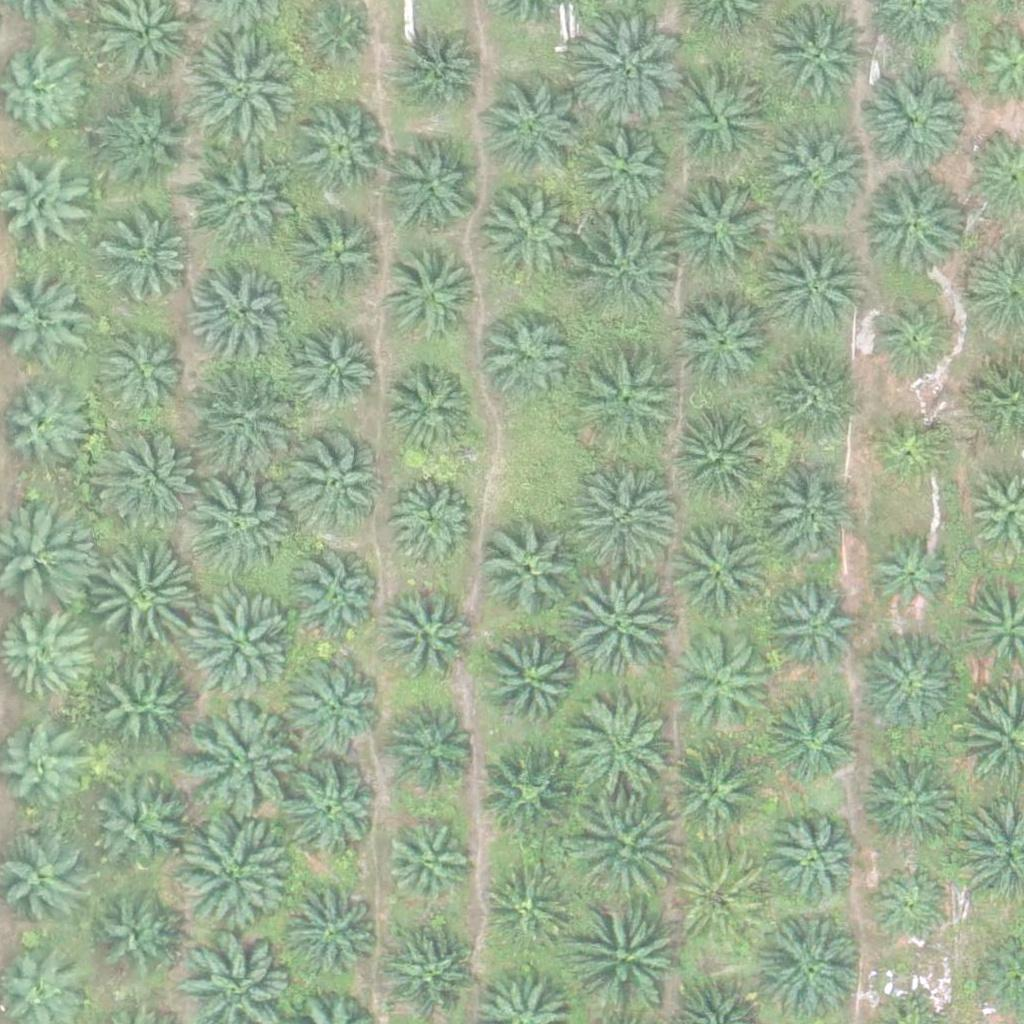Kelapa_Sawit: (90, 420, 203, 534), (182, 39, 295, 153), (184, 468, 297, 582), (568, 214, 681, 328), (572, 350, 685, 464), (568, 790, 681, 904), (187, 362, 300, 475), (567, 17, 680, 130), (565, 462, 678, 575), (665, 63, 778, 176), (562, 698, 675, 811), (568, 569, 681, 682), (176, 818, 289, 931), (189, 702, 302, 815), (180, 588, 293, 701), (570, 893, 682, 1007), (84, 547, 196, 660), (665, 173, 777, 286), (763, 116, 875, 229), (759, 231, 871, 344), (77, 770, 189, 883), (191, 159, 291, 260), (193, 268, 293, 369), (291, 203, 391, 304), (380, 248, 480, 349), (480, 519, 580, 620), (475, 312, 575, 413), (478, 187, 578, 288), (486, 79, 586, 180), (571, 126, 671, 227), (676, 407, 776, 508), (676, 290, 776, 391), (765, 10, 865, 111), (760, 354, 860, 455), (765, 463, 865, 564), (863, 174, 963, 275), (858, 638, 958, 739), (860, 751, 960, 852), (762, 810, 862, 911), (668, 628, 768, 729), (665, 738, 765, 839), (280, 756, 380, 857), (278, 882, 378, 983), (98, 662, 198, 763), (90, 319, 190, 419), (97, 206, 197, 306), (96, 98, 196, 198), (291, 430, 391, 530), (290, 98, 390, 198), (391, 25, 491, 125), (384, 141, 484, 241), (384, 362, 484, 462), (283, 551, 383, 651), (672, 521, 772, 621), (865, 72, 965, 172), (671, 847, 771, 947), (482, 629, 582, 729), (482, 743, 582, 843), (385, 694, 485, 794), (377, 585, 477, 685), (286, 658, 386, 758), (387, 472, 475, 560), (869, 402, 957, 490), (869, 289, 957, 377), (865, 864, 953, 952), (768, 696, 856, 784), (767, 587, 855, 675), (481, 862, 569, 950), (383, 824, 471, 912), (91, 891, 179, 979), (287, 328, 374, 416), (864, 534, 951, 622), (299, 1, 374, 77)
